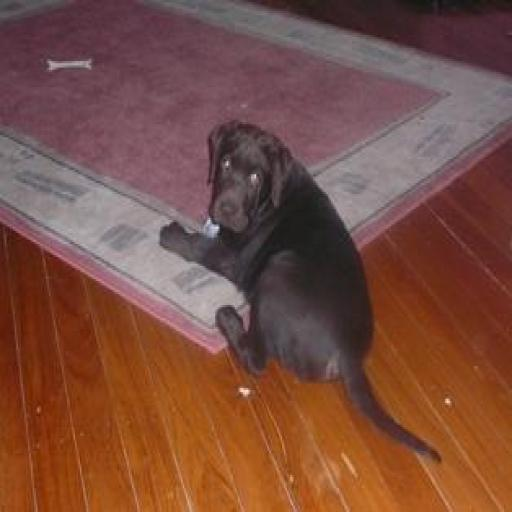dog_face: (201, 121, 278, 223)
